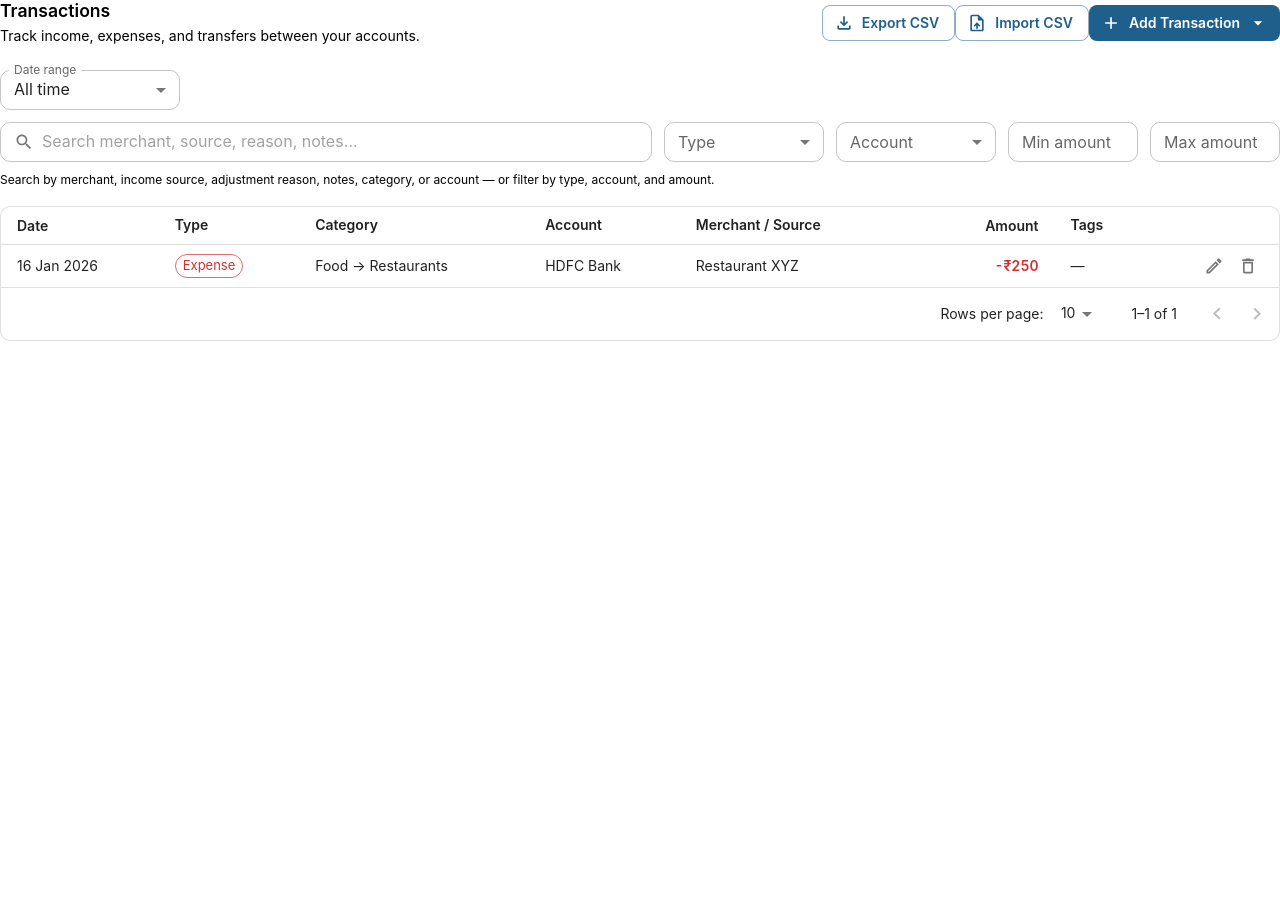
Test case: TransactionsPage › opens the expense dialog pre-filled when editing an expense row
Click the button named "Edit transaction": (1214, 266) [1199,251,1229,281]
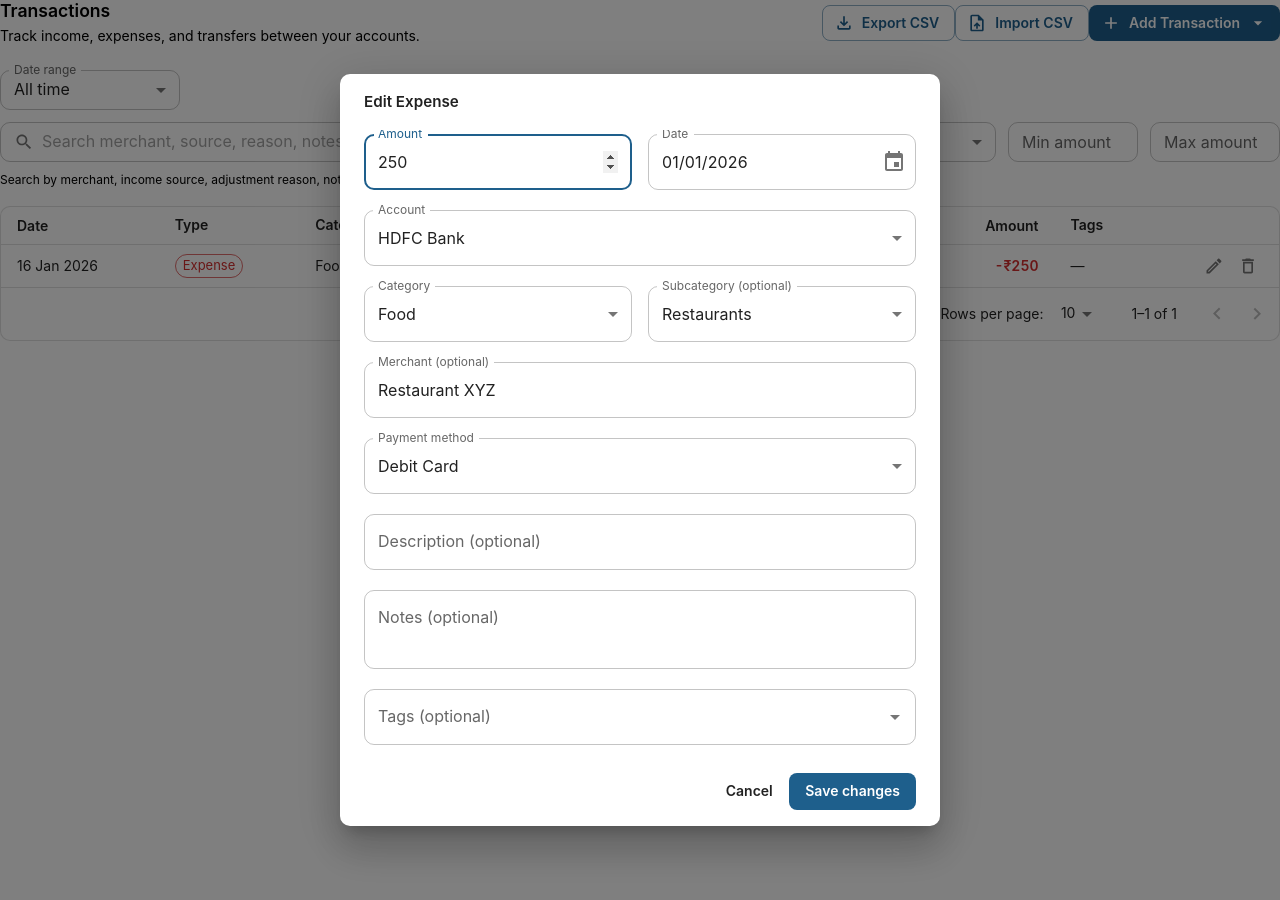
Check: the heading "Edit Expense" is shown, box [364,92,459,111]
Check: the number field showing "250" is shown, box [364,134,632,190]
Check: the field showing "Restaurant XYZ" is shown, box [364,362,916,418]
